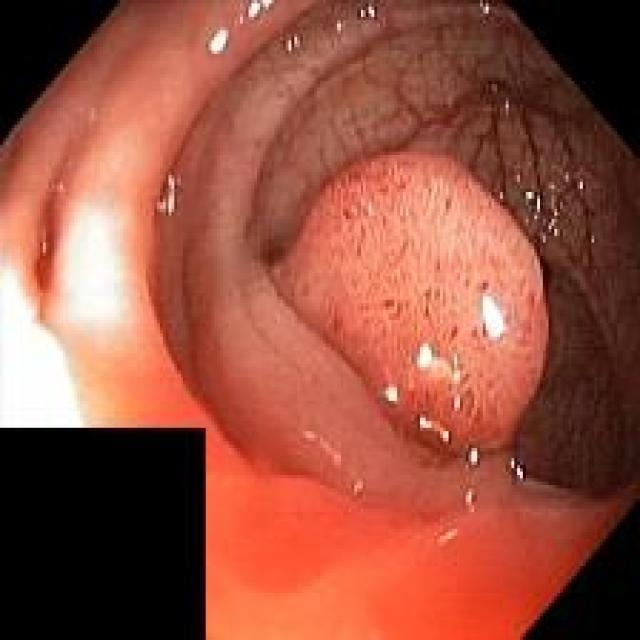Polyps: (271, 153, 549, 455)
